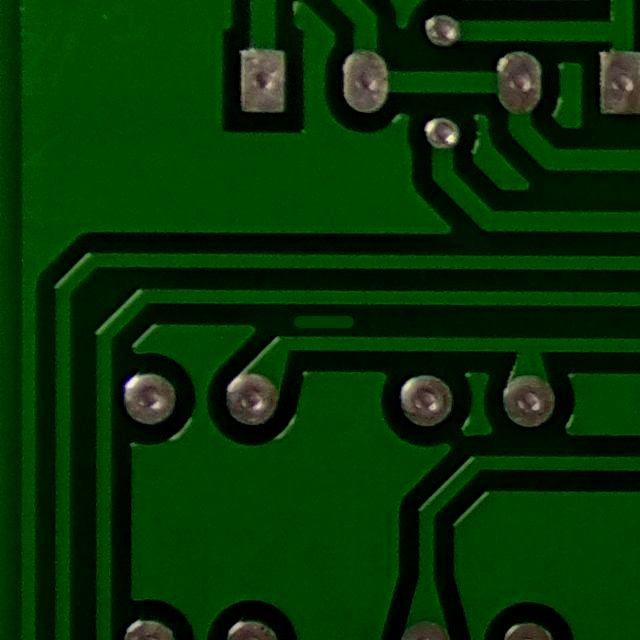spurious_copper: (278, 294, 362, 346)
